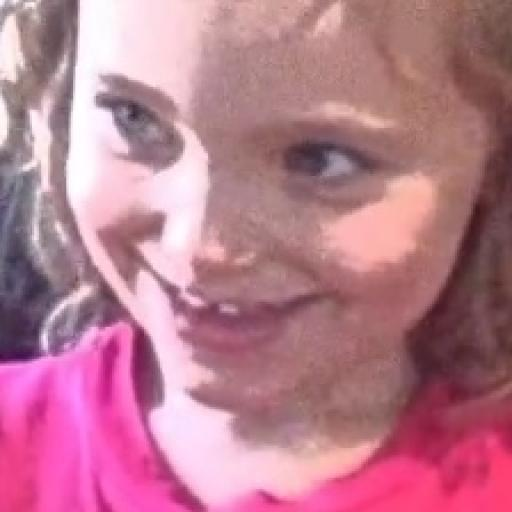Autism: (22, 0, 499, 452)
